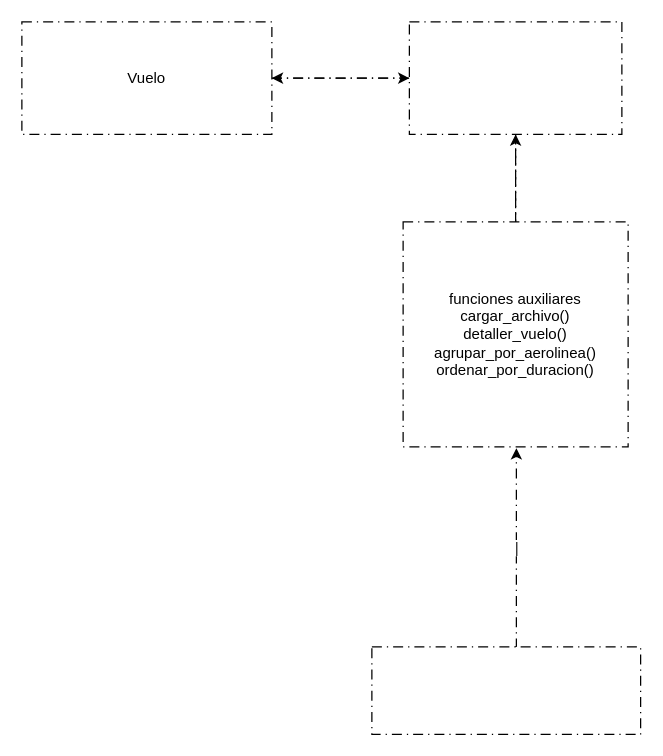
This 663x756 diagram has some shape labels left out. The shapes that lost their labels are listed below. From the top down, each one's box as (x1, y1, x2, y2) in pixels, then its label:
(408, 21, 622, 134): Diccionario {Codigo: vuelo}
(371, 646, 641, 734): menu()
